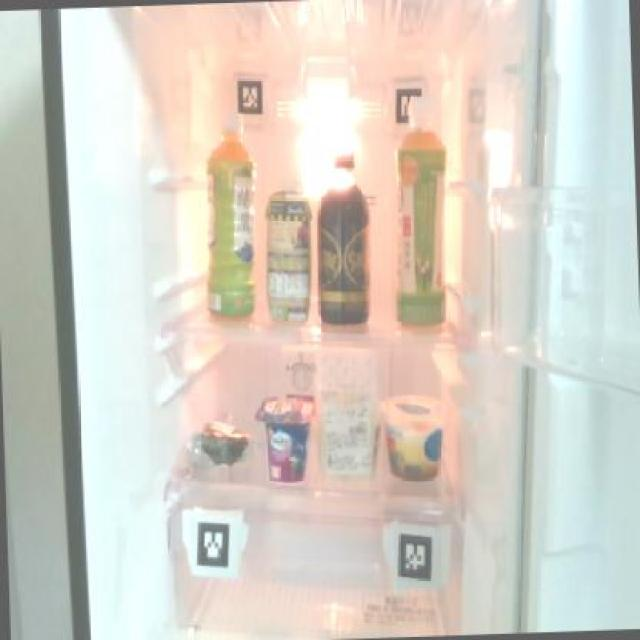coffee: (310, 150, 372, 327)
pudding: (379, 388, 447, 483)
rice_ball: (184, 410, 250, 472)
sandwich: (314, 344, 384, 482)
tea_i: (388, 120, 454, 328), (201, 112, 261, 320), (260, 168, 316, 326)
yogurt: (254, 390, 317, 487)
